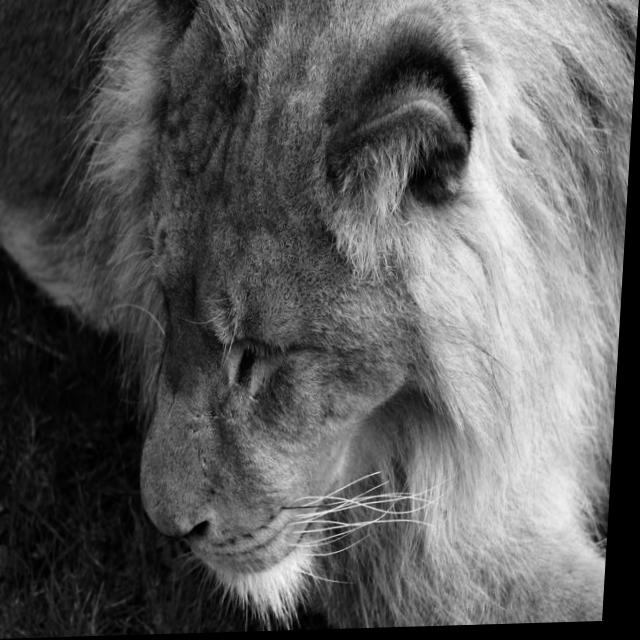Lion: (46, 75, 546, 630)
